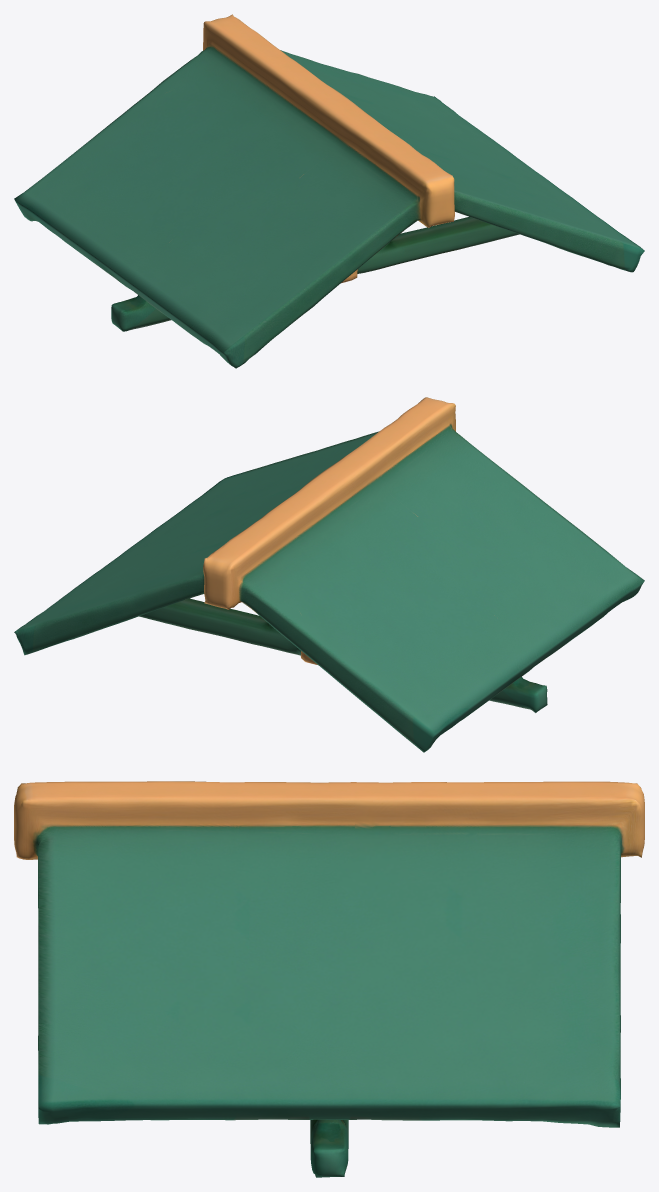
Rendered from 05roofBase.fbx.
The picture shows the model from 3 angles, top to bottom: view 1: azimuth 30°, elevation 25°; view 2: azimuth 150°, elevation 25°; view 3: azimuth 270°, elevation 25°; orthographic projection. The views are drawn at different scales.
Visible parts, largest first — view 1: Mesh_0; view 2: Mesh_0; view 3: Mesh_0.
Boxes of the visible parts, x1,y1,x2,y2 form: Mesh_0: [14, 14, 644, 368]; Mesh_0: [14, 397, 644, 752]; Mesh_0: [14, 781, 644, 1177].
Bounding box in the file's own units: 192 × 76.72 × 178.
Materials: 1 (1 with a texture image).
